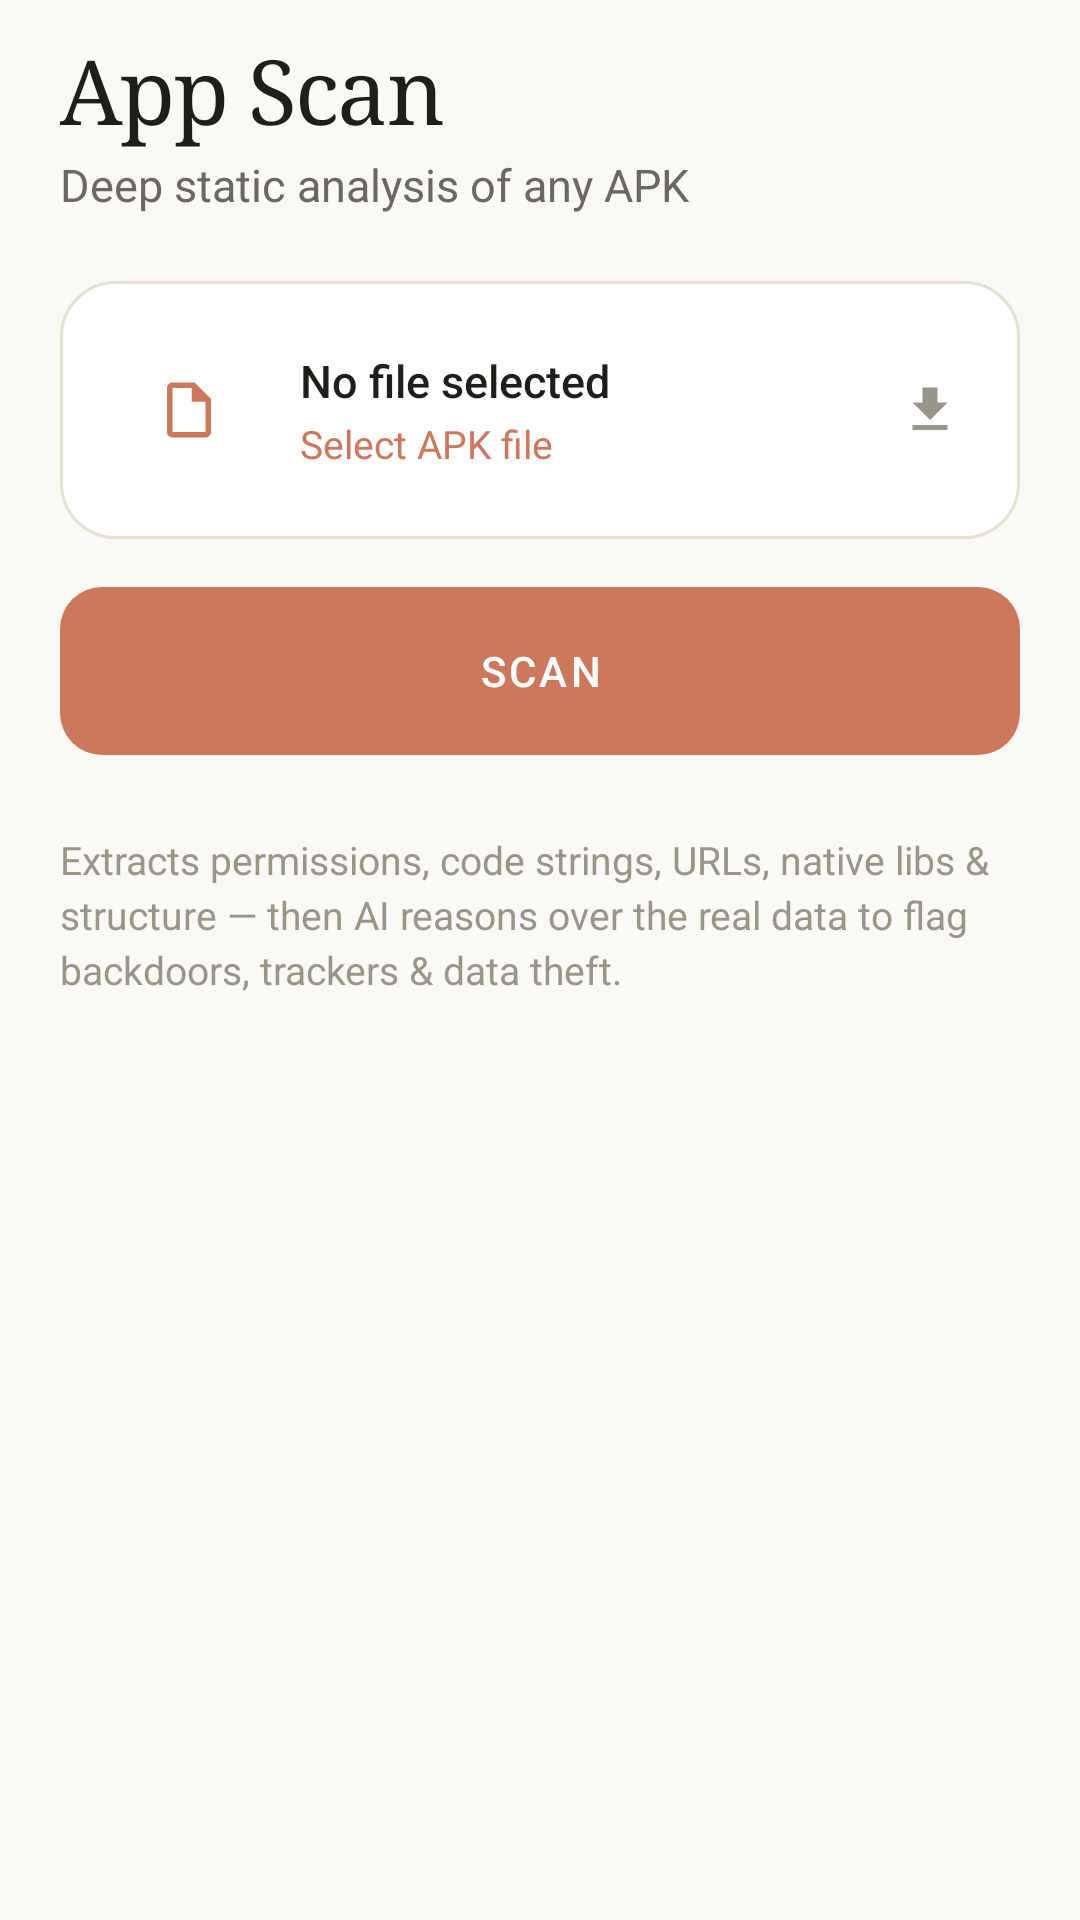

Icons on this 1080*1920 Android screen, each with its box as (x1, y1, x2, y2):
doc: (167, 382, 211, 438)
download: (912, 387, 948, 430)
